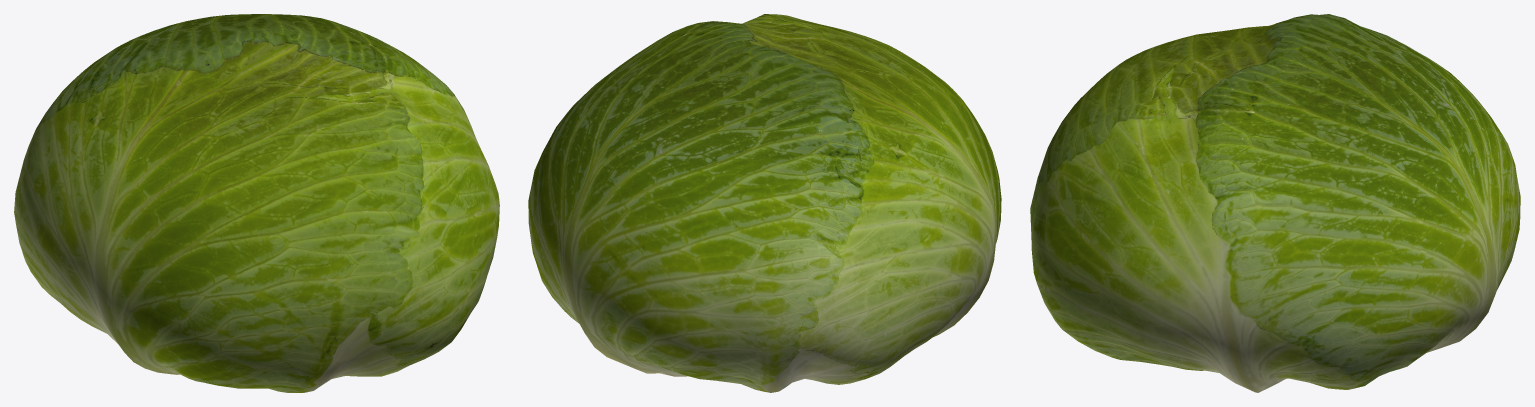
Rendered from cabbage.glb.
The picture shows the model from 3 angles, left to right: view 1: azimuth 30°, elevation 25°; view 2: azimuth 150°, elevation 25°; view 3: azimuth 270°, elevation 25°; orthographic projection.
Parts seen in each view (by area): view 1: Cabbage_Material.001_0; view 2: Cabbage_Material.001_0; view 3: Cabbage_Material.001_0.
Part boxes in pixels (bbox=[...]): Cabbage_Material.001_0: bbox=[14, 14, 499, 392]; Cabbage_Material.001_0: bbox=[528, 14, 1001, 392]; Cabbage_Material.001_0: bbox=[1030, 14, 1520, 392].
Bounding box in the file's own units: 0.5065 × 0.3662 × 0.5246.
Materials: 1 (1 with a texture image).
